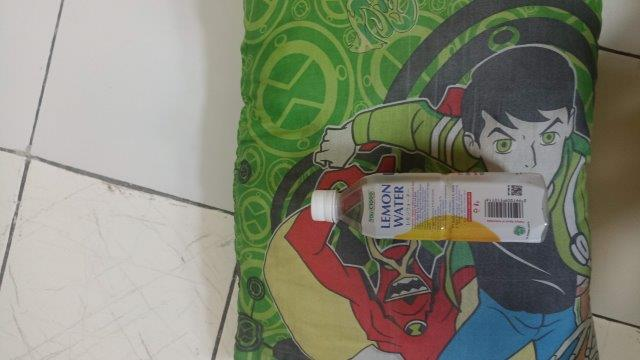botolplastik: (310, 173, 549, 245)
